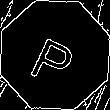P_NE: (28, 24, 82, 86)
